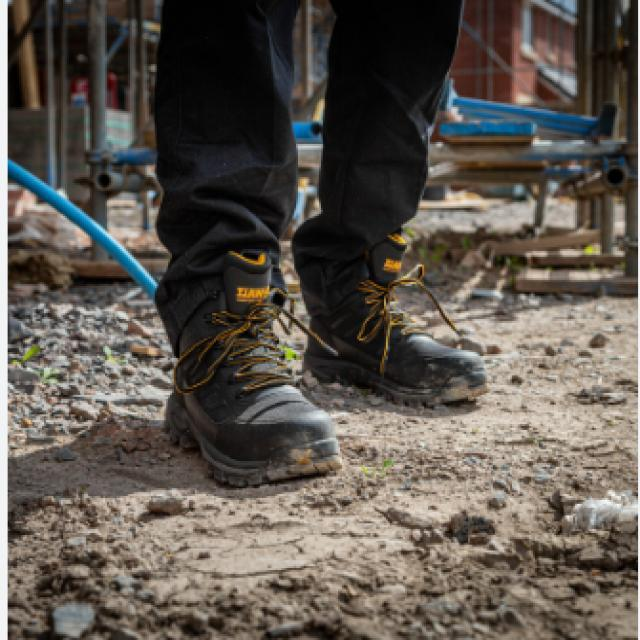shoes: (152, 223, 498, 490)
